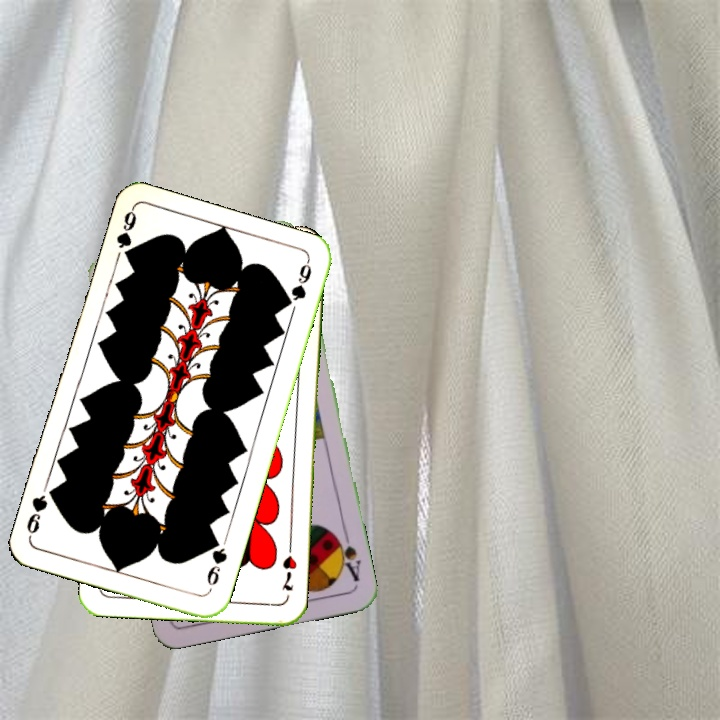G9: (203, 534, 230, 594), (112, 205, 139, 261)
H7: (277, 541, 300, 594)
SA: (330, 527, 364, 585)
